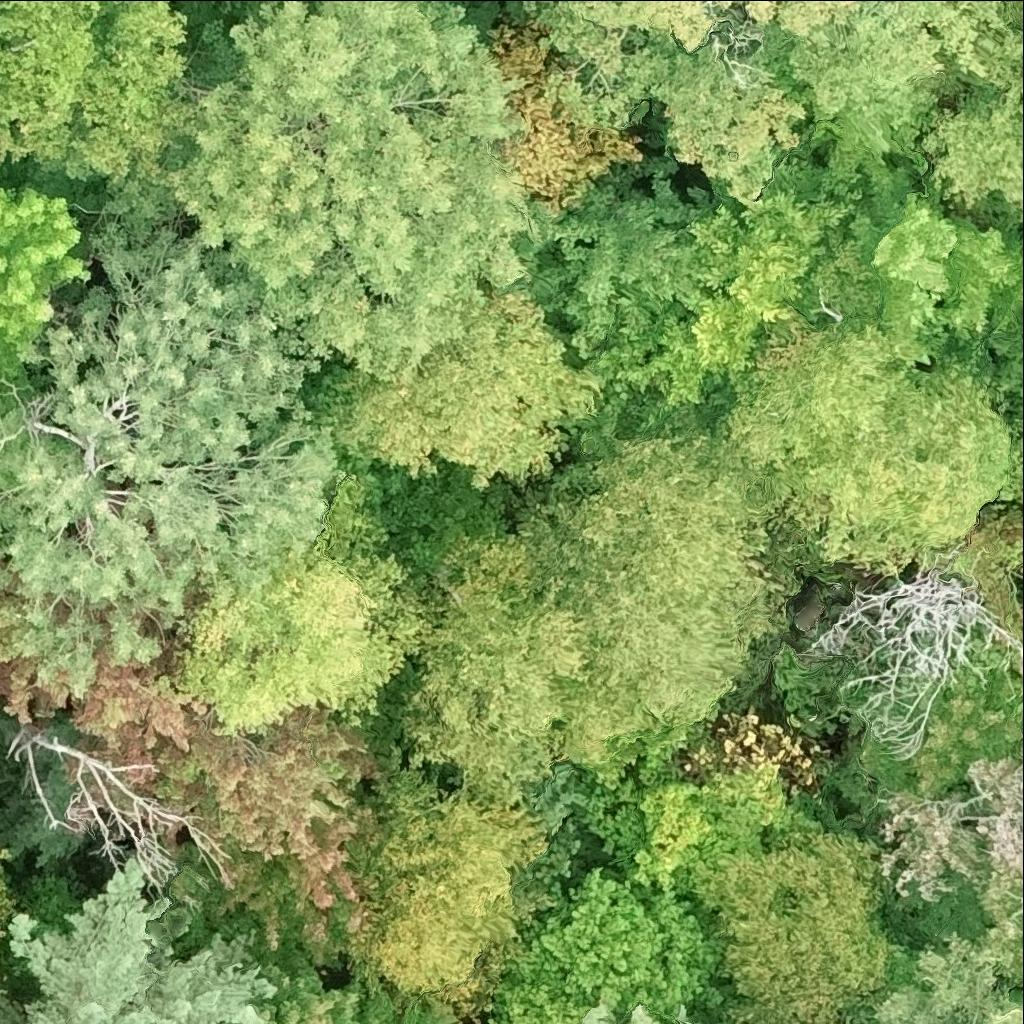crown: (97, 0, 527, 379), (0, 229, 342, 688), (518, 433, 785, 772), (527, 0, 870, 204), (727, 332, 1012, 577), (182, 478, 422, 737), (0, 573, 227, 833), (399, 519, 594, 810), (341, 277, 600, 486), (342, 753, 549, 1005), (803, 552, 1023, 760), (190, 705, 381, 944), (692, 828, 923, 1023), (10, 859, 274, 1023), (777, 634, 1023, 809), (0, 0, 190, 183), (580, 755, 827, 892), (7, 730, 188, 899), (546, 191, 729, 358), (533, 864, 717, 1023), (872, 193, 1023, 365), (796, 0, 1011, 110), (689, 188, 848, 324), (878, 793, 994, 947), (942, 433, 1023, 644), (619, 291, 763, 407), (954, 749, 1023, 989), (0, 194, 90, 372), (877, 922, 1023, 1023), (932, 92, 1023, 208), (484, 934, 586, 1023), (247, 966, 399, 1023), (990, 39, 1023, 120), (0, 580, 30, 617), (0, 843, 9, 915), (508, 0, 545, 15), (581, 1004, 610, 1023), (629, 1008, 662, 1023), (1009, 985, 1023, 1002), (225, 1020, 242, 1023)
